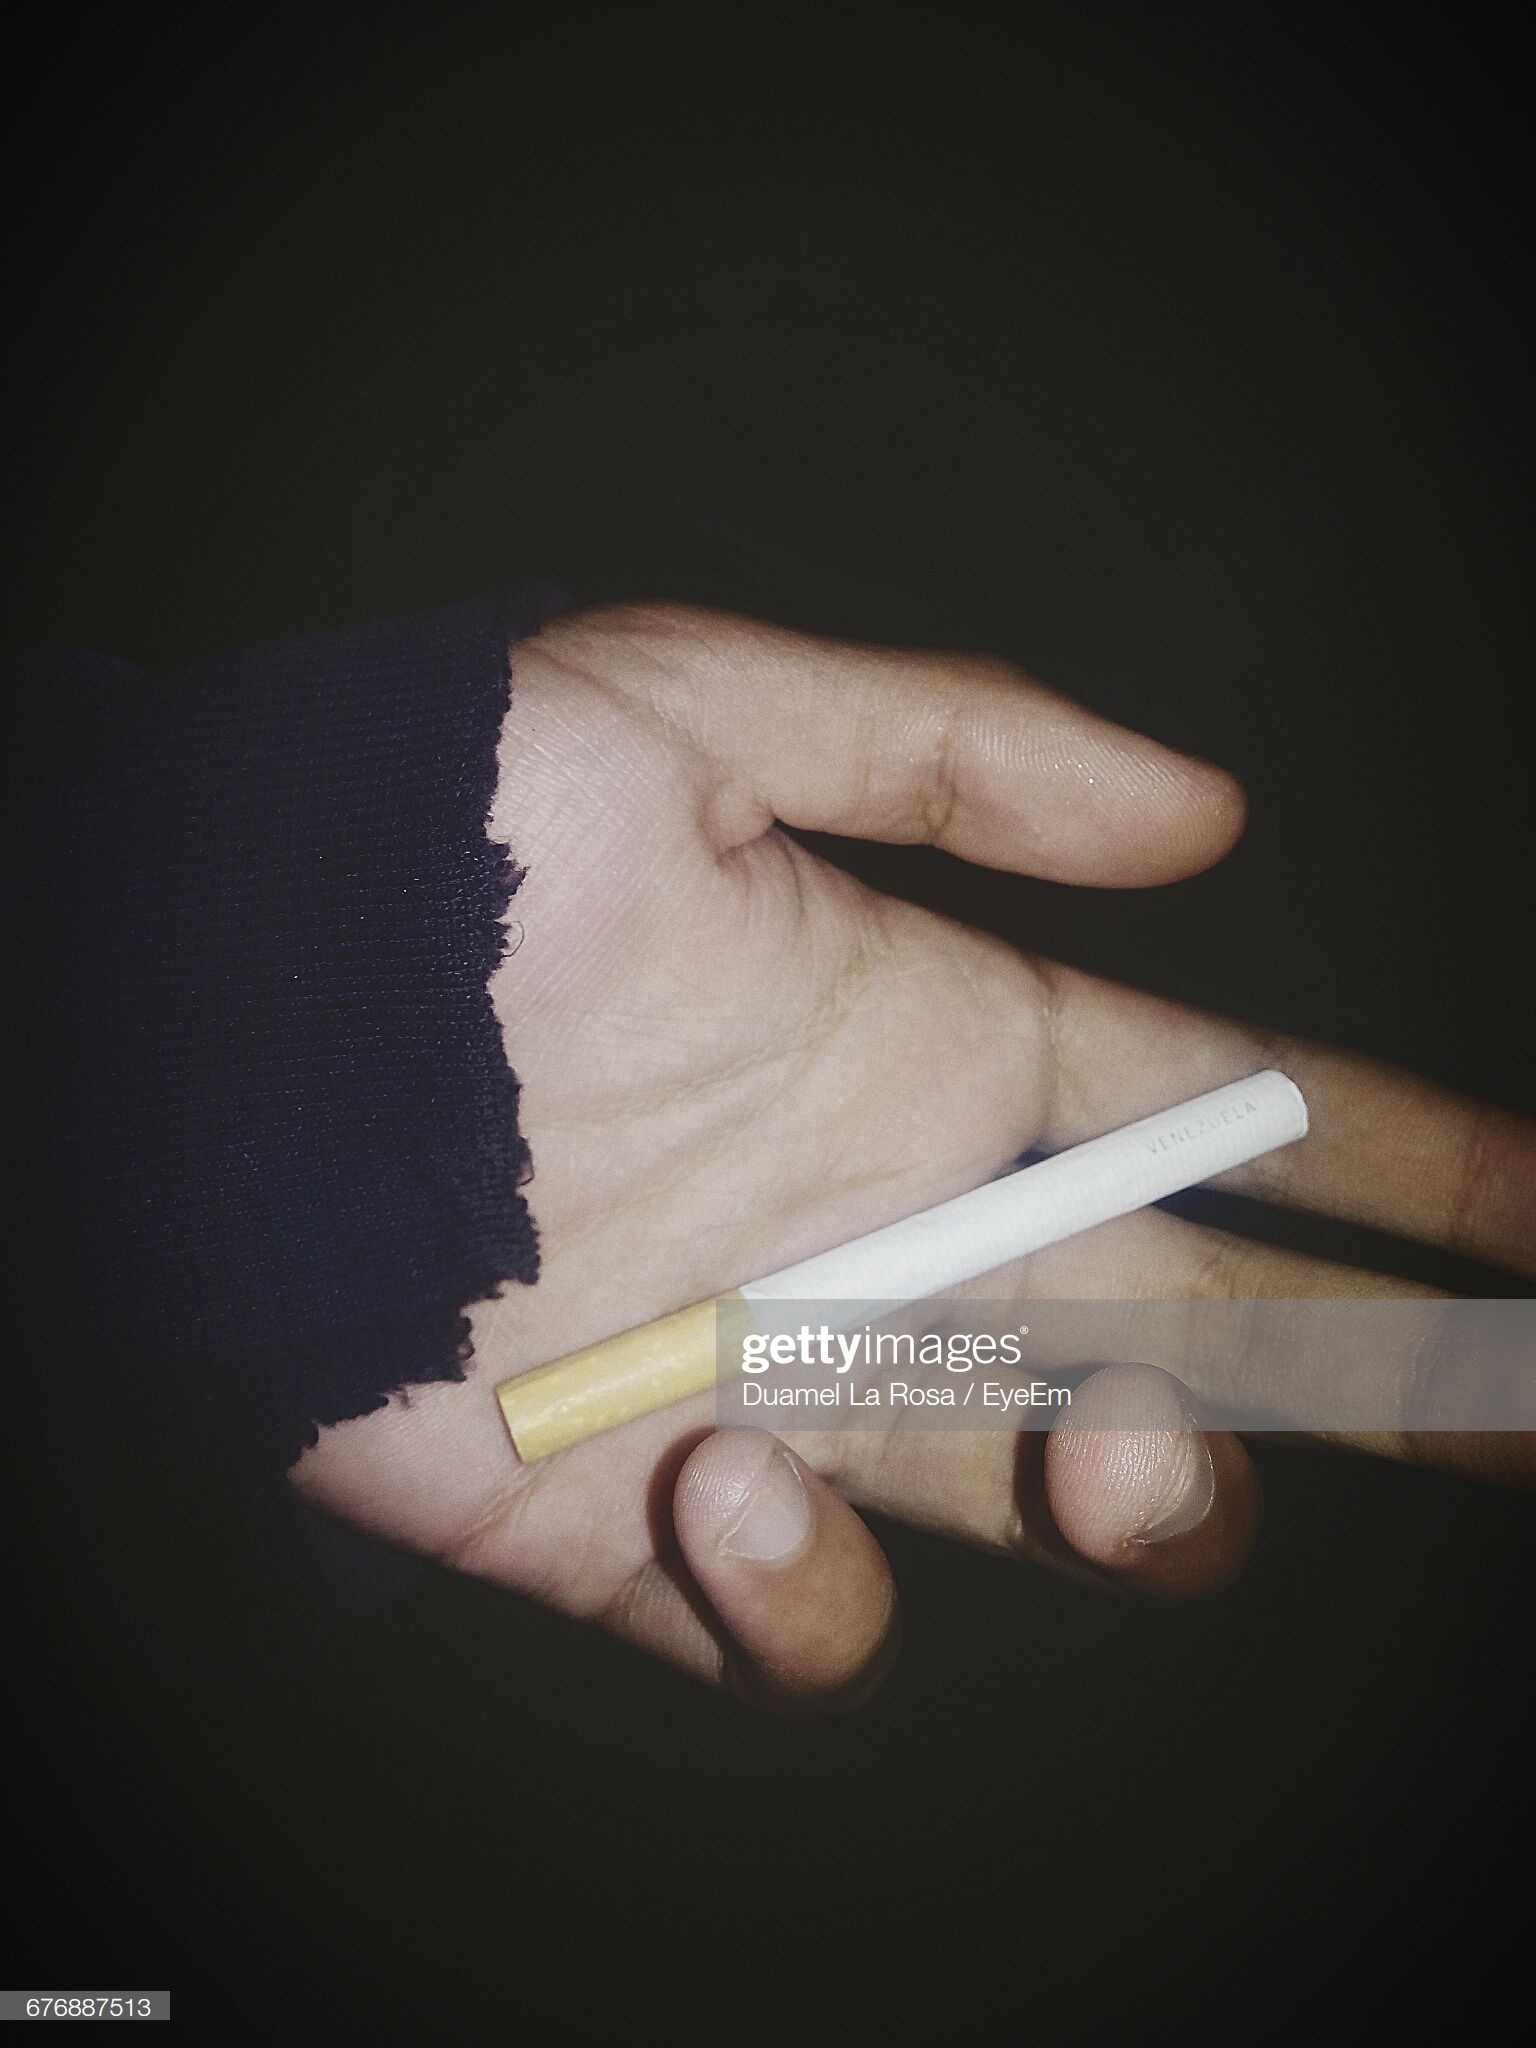sigaretta: (447, 1092, 1291, 1442)
